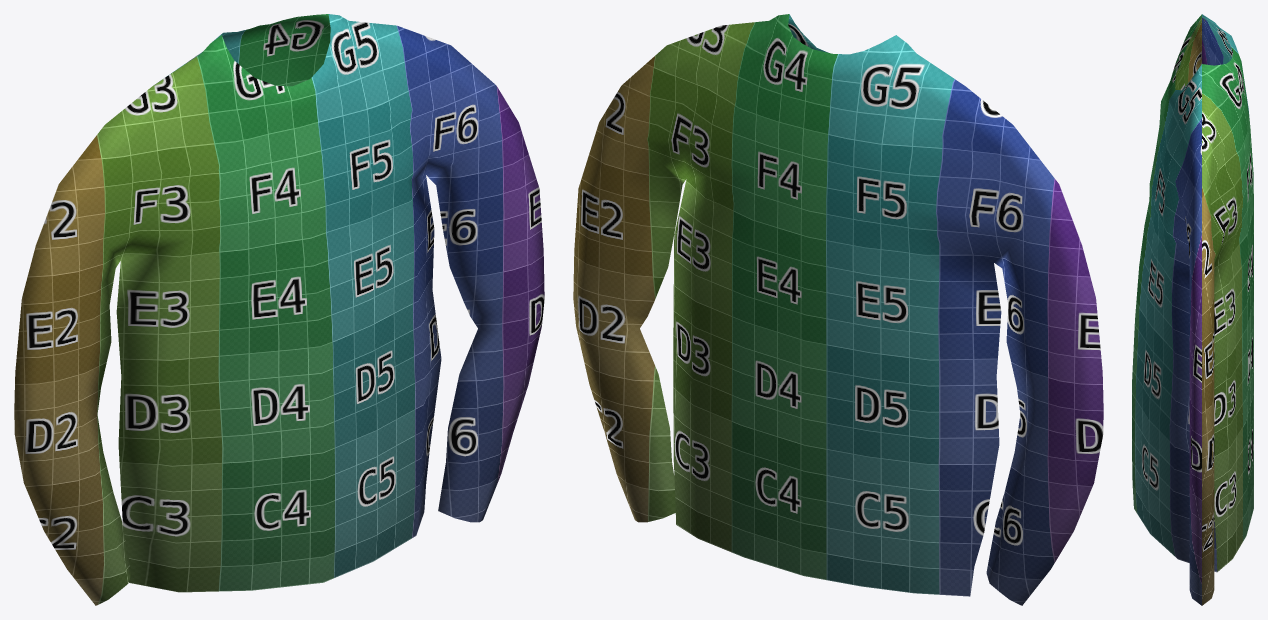
The model's file is sweater1.glb.
3 renders of one model, left to right at view 1: azimuth 30°, elevation 25°; view 2: azimuth 150°, elevation 25°; view 3: azimuth 270°, elevation 25°, orthographic. The views are drawn at different scales.
Parts seen in each view (by area): view 1: Plane; view 2: Plane; view 3: Plane.
Part boxes in pixels (<box>): Plane: <box>14,14,544,605</box>; Plane: <box>573,14,1103,605</box>; Plane: <box>1132,14,1253,605</box>.
Size of the model in its own units: 0.8433 by 0.8343 by 0.1917.
1 material, 1 textured.
